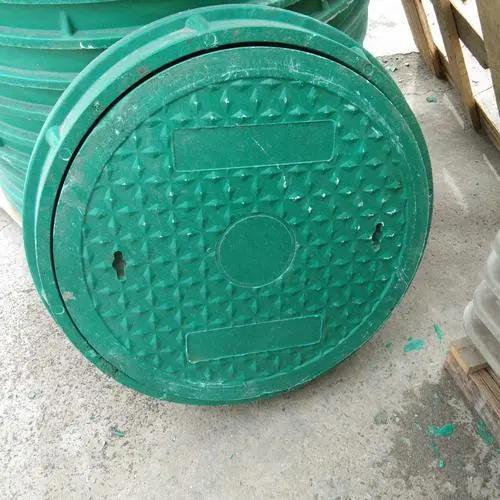wellcover: (19, 26, 446, 415)
